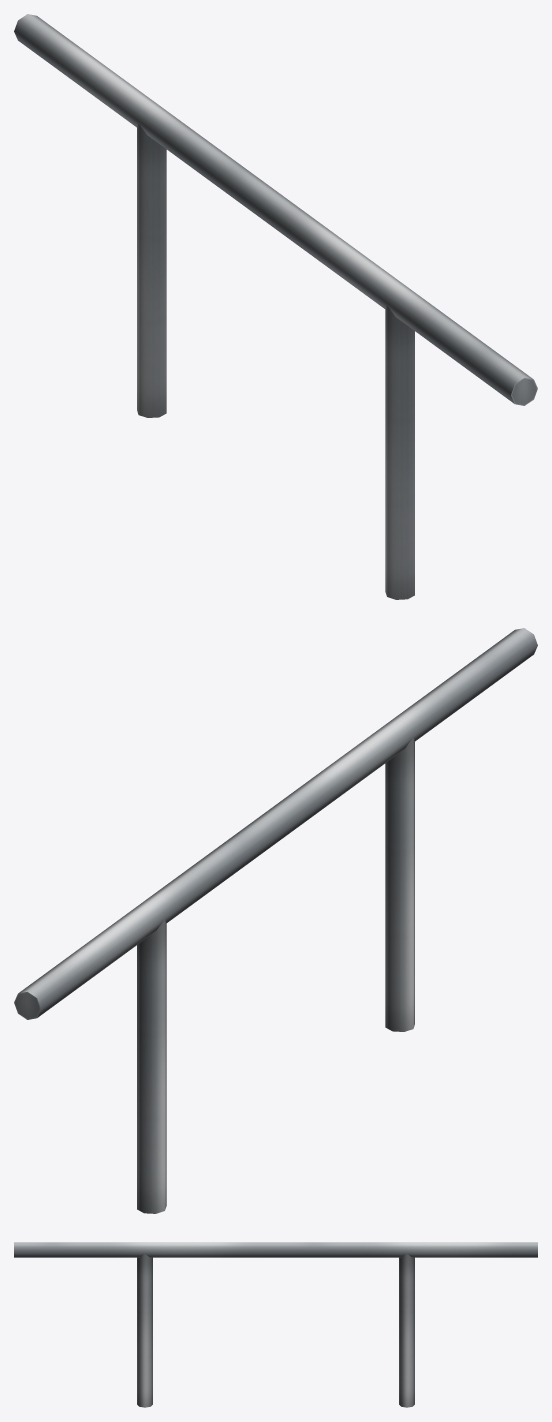
Rendered from set_handrail_straight_02.fbx.
3 renders of one model, top to bottom at view 1: azimuth 30°, elevation 25°; view 2: azimuth 150°, elevation 25°; view 3: azimuth 270°, elevation 25°, orthographic. The views are drawn at different scales.
Parts seen in each view (by area): view 1: set_handrail_straight_02; view 2: set_handrail_straight_02; view 3: set_handrail_straight_02.
Boxes of the visible parts, x1,y1,x2,y2 form: set_handrail_straight_02: [14, 14, 537, 599]; set_handrail_straight_02: [14, 628, 537, 1213]; set_handrail_straight_02: [14, 1242, 537, 1407].
Bounding box in the file's own units: 6.29 × 68.15 × 200.
